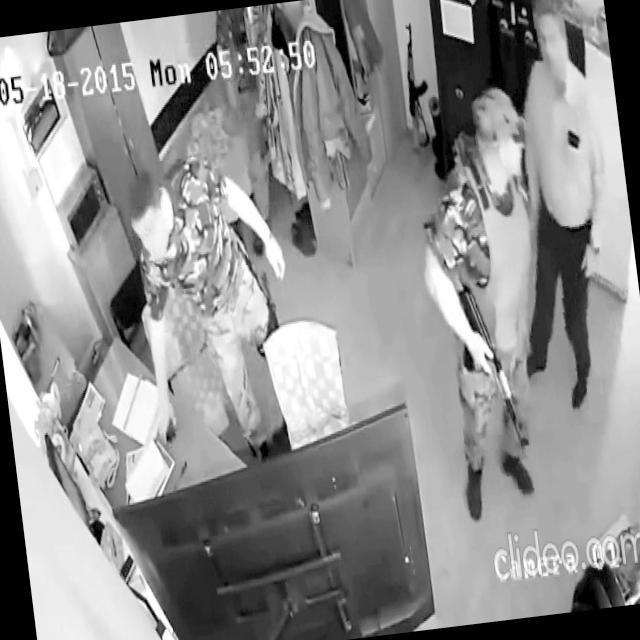gun: (451, 271, 532, 458), (396, 17, 436, 155)
person: (478, 0, 639, 418), (121, 143, 309, 470)
person with a gun: (402, 80, 581, 526)
